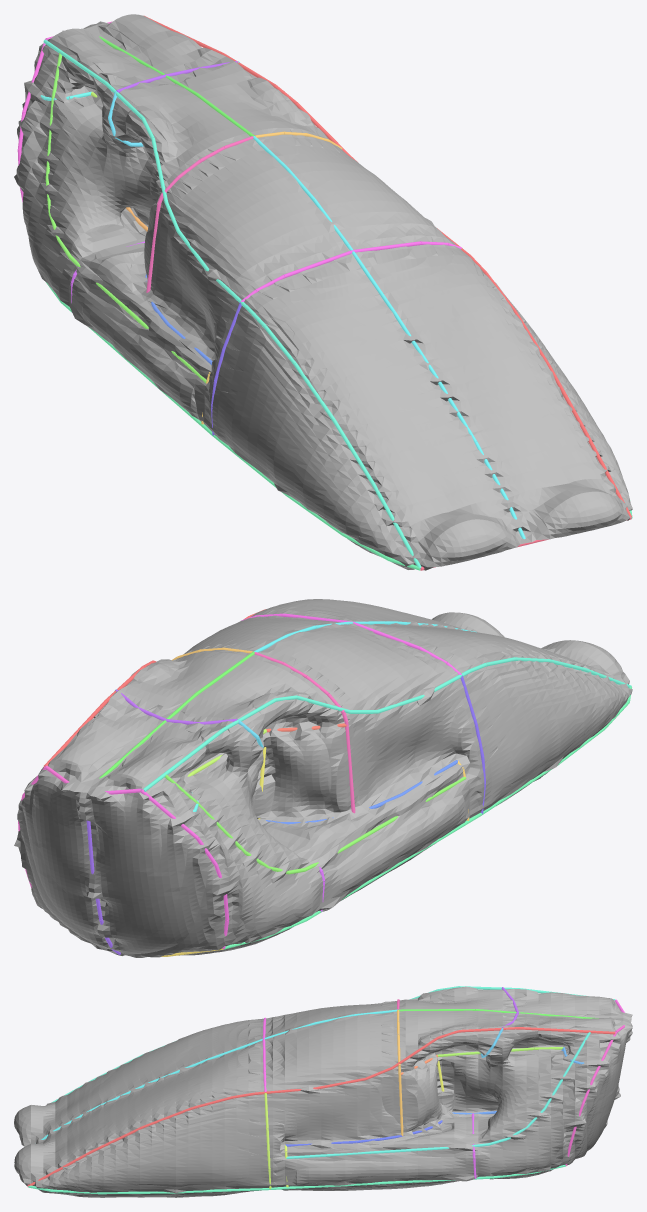
The model's file is t2f_hand_vacuum.gltf.
3 views of the same model, one above another, from view 1: azimuth 30°, elevation 25°; view 2: azimuth 150°, elevation 25°; view 3: azimuth 270°, elevation 25° (orthographic). The views are drawn at different scales.
Size of the model in its own units: 0.3445 by 0.2642 by 0.9438.
